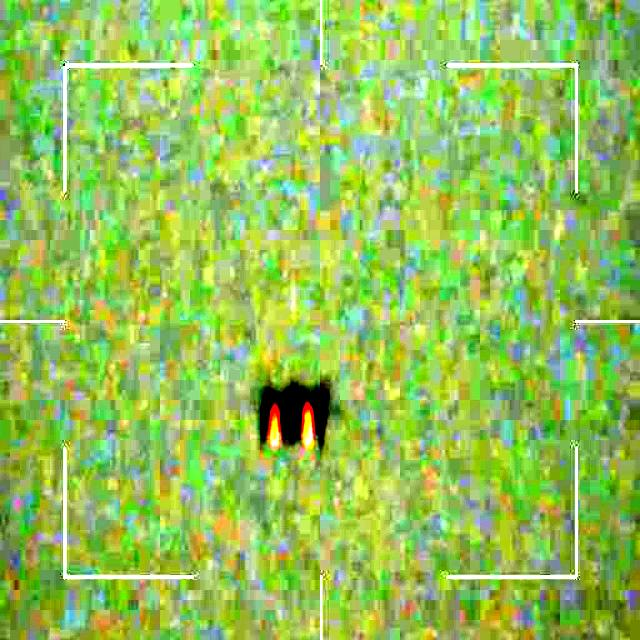bird: (256, 378, 331, 450)
